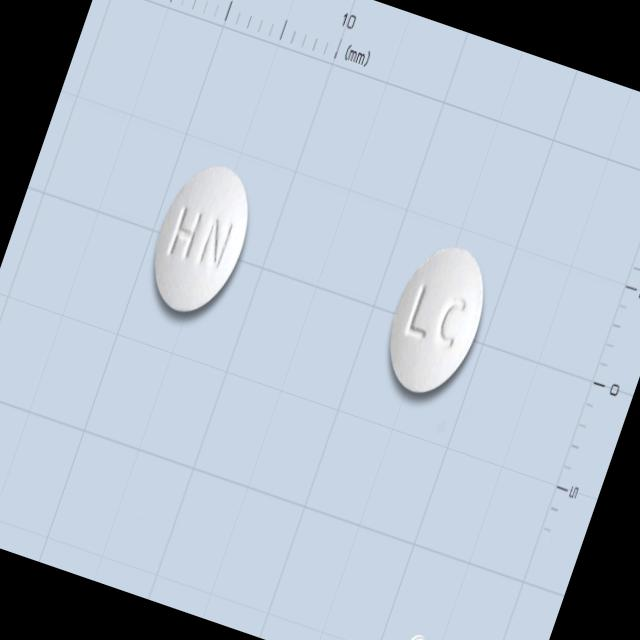Lenacin: (372, 232, 503, 406), (136, 152, 266, 325)
